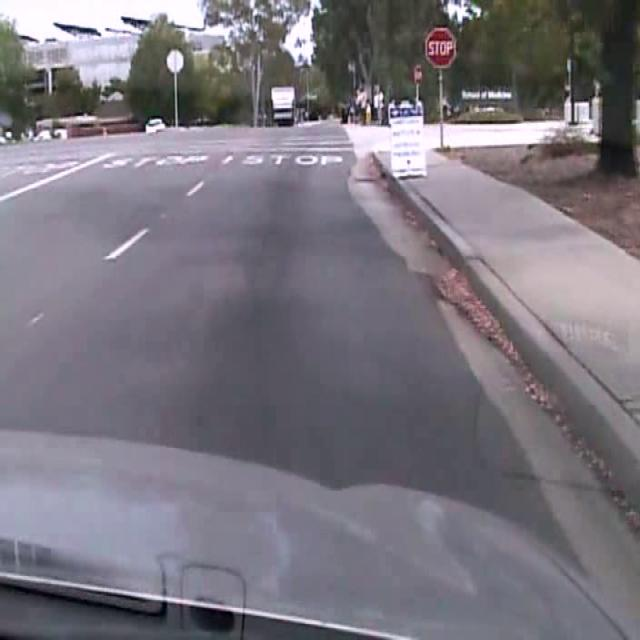stop_sign: (424, 27, 456, 69)
